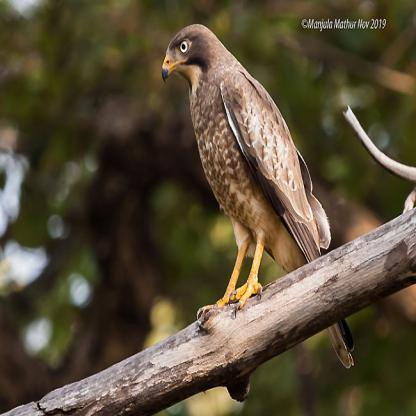Burung: (161, 22, 357, 371)
